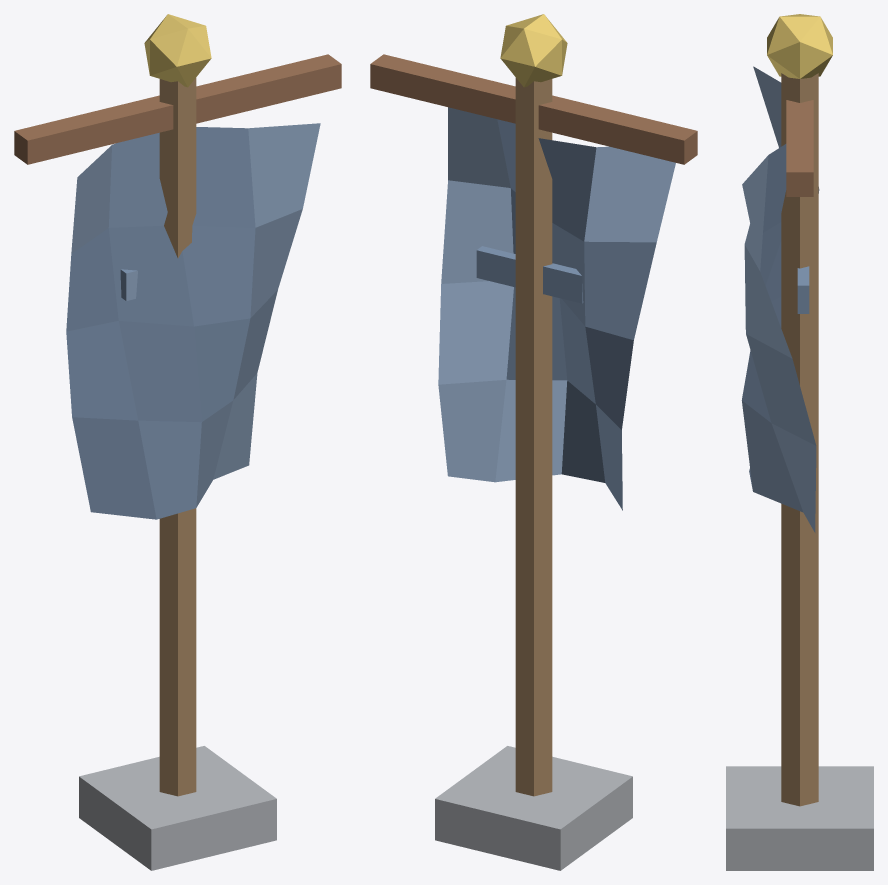
The model's file is animprop_banner_05.glb.
3 renders of one model, left to right at view 1: azimuth 30°, elevation 25°; view 2: azimuth 150°, elevation 25°; view 3: azimuth 270°, elevation 25°, orthographic.
Visible parts, largest first — view 1: animprop; view 2: animprop; view 3: animprop.
Part boxes in pixels (<box>): animprop: <box>14,14,341,870</box>; animprop: <box>370,14,697,870</box>; animprop: <box>726,14,873,870</box>.
Bounding box in the file's own units: 0.95 × 2.34 × 0.38.
